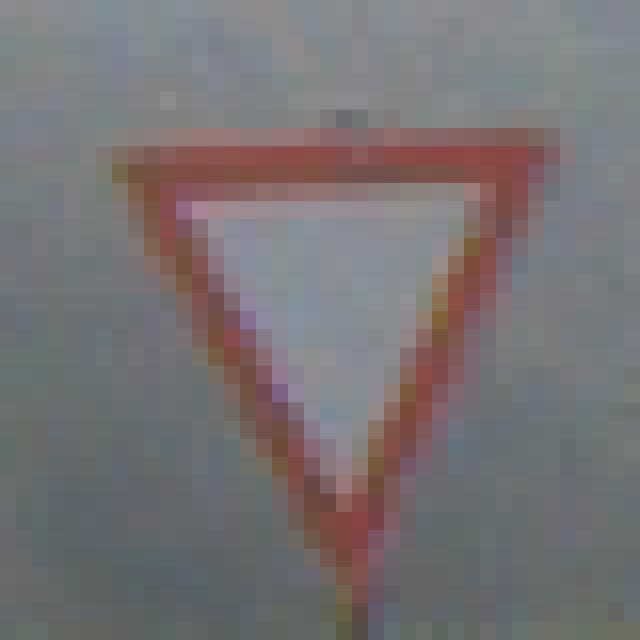Give Way: (97, 93, 561, 550)
